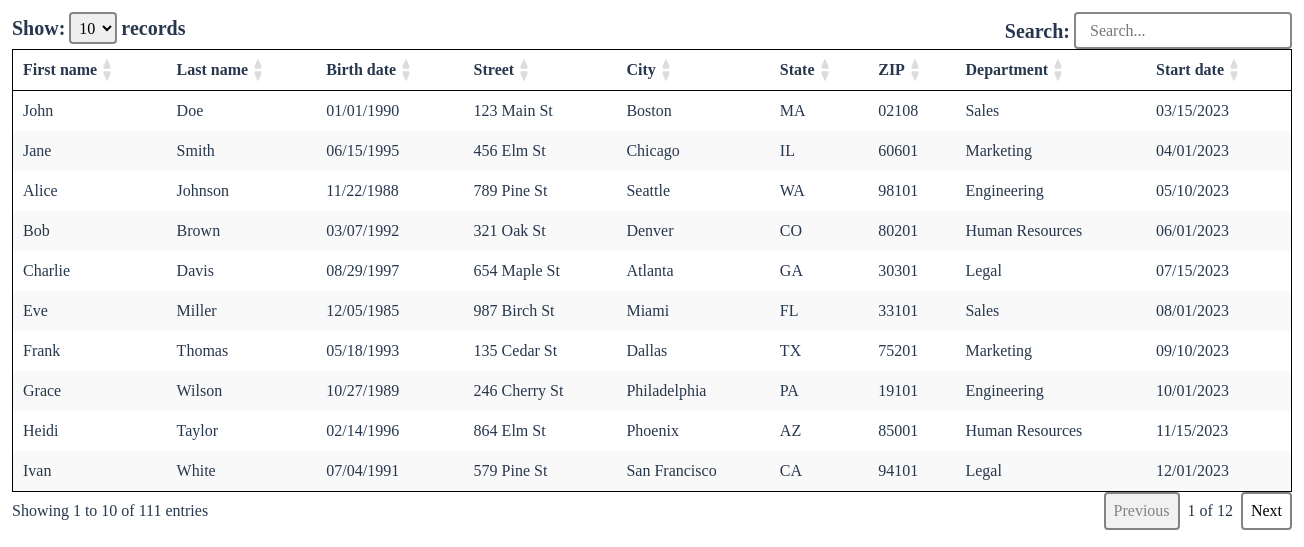
Given I'm on employees page › When I filter data, it should display only filtered data
The width and height of the screenshot is (1304, 547).
Expected: the text "Showing 1 to 10 of 111 entries" is shown, top-left (12, 499), bottom-right (208, 523)
Type "Allen" into the field with placeholder "Search...". click: (1183, 30)
box: top-left (1074, 12), bottom-right (1292, 49)
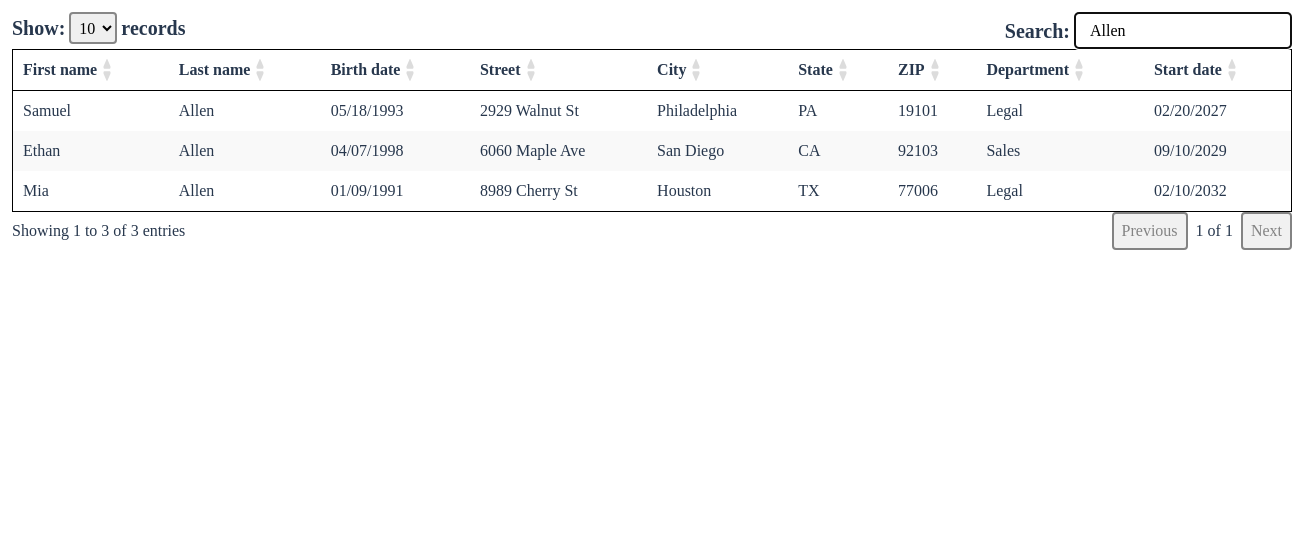
Expected: the text "1 of 1" is shown, top-left (1196, 219), bottom-right (1233, 243)
Result: the text "Showing 1 to 3 of 3 entries" is shown at top-left (12, 219), bottom-right (185, 243)
Result: the text "Allen" is shown 3 times at top-left (169, 90), bottom-right (321, 131); top-left (169, 131), bottom-right (321, 171); top-left (169, 171), bottom-right (321, 212)
